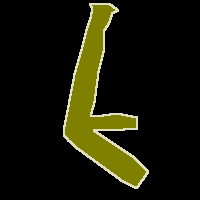tie: (64, 4, 148, 188)
